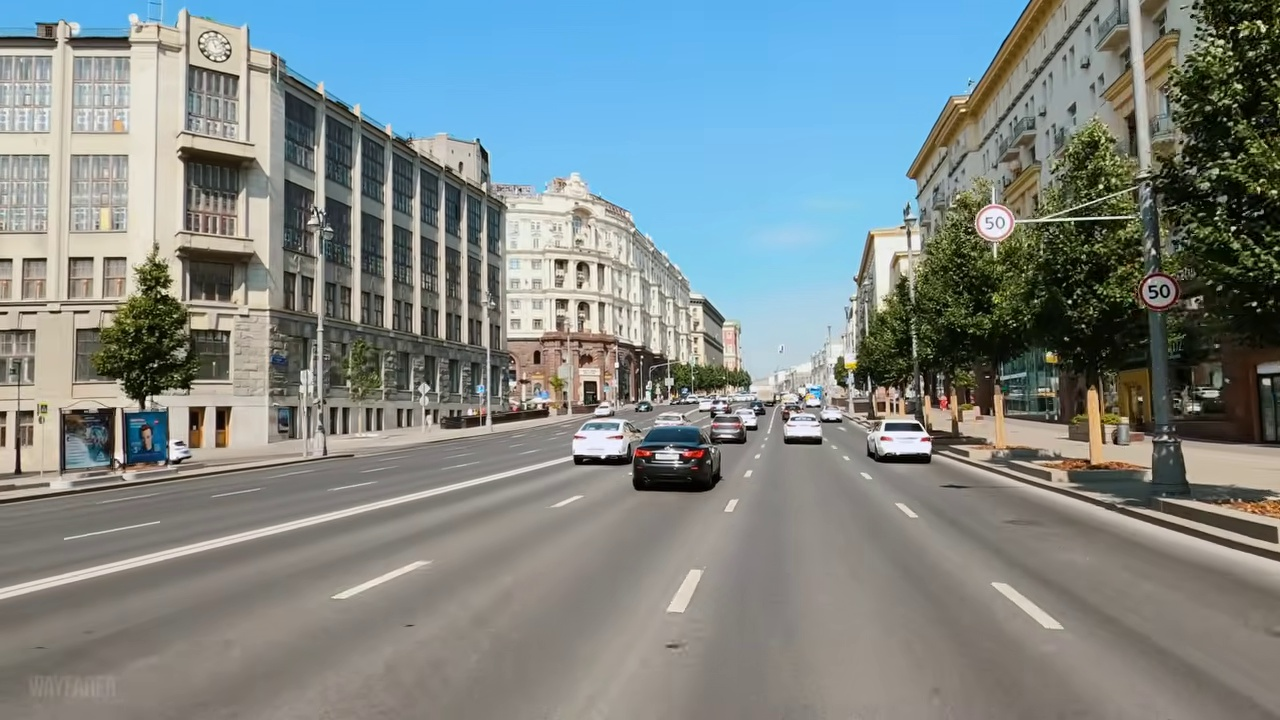apagada: (304, 207, 336, 244)
